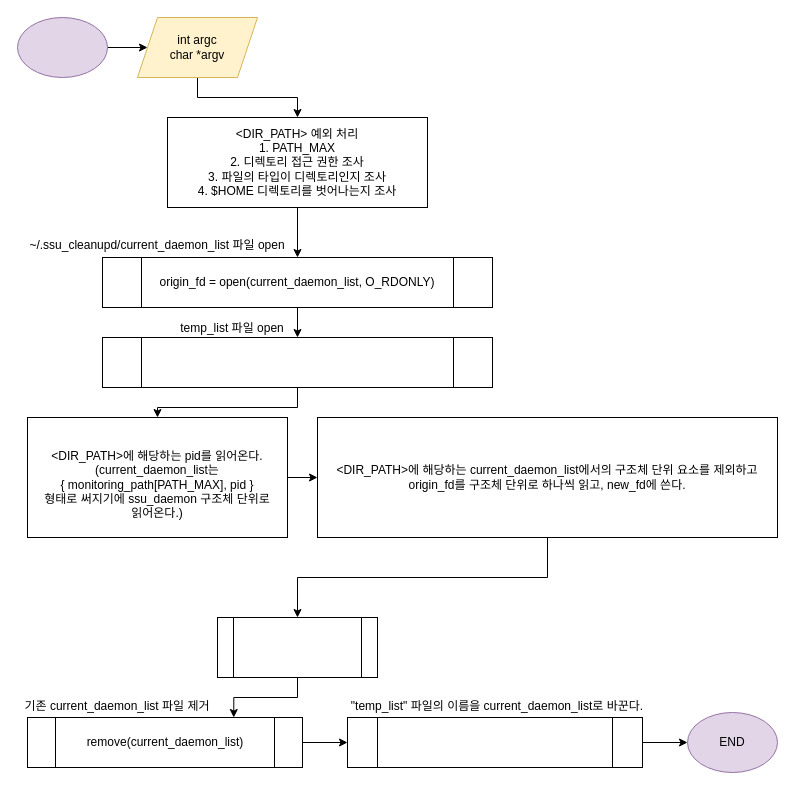
This 795x790 diagram has some shape labels left out. Each missing label, with the centre of its shape:
kill(pid, SIGKILL): (297,647)
new_fd = open("temp_list", O_WRONLY | O_CREAT | O_TRUNC, 0644): (297,362)
remove("temp_list", current_daemon_list): (494,742)
START: (62,47)
